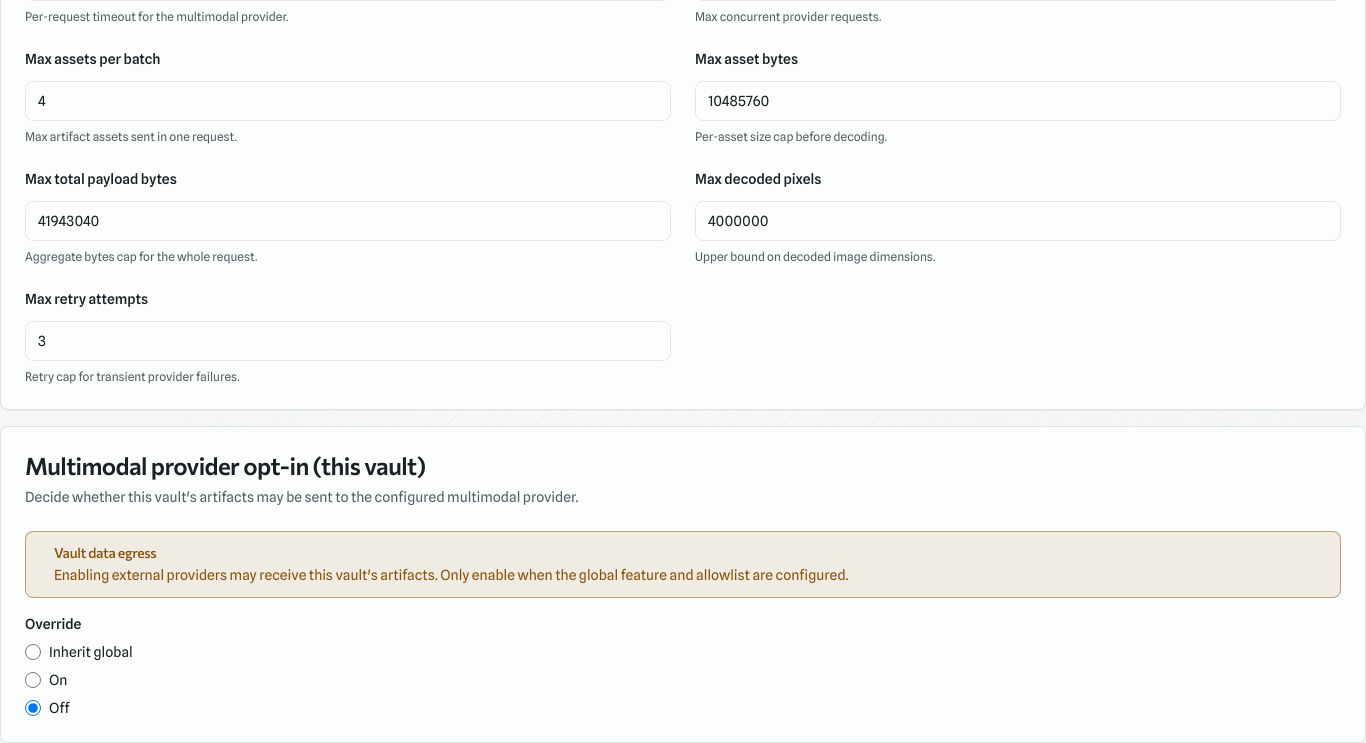
Test: ModelsTab issue #774 read outcomes › keeps a successful B mutation when the obsolete A read settles
(page scrolled)
Expected: the radio button labelled "Off" is checked, 25,700 -> 41,716
What coordinates should you click on to do the following:
click the radio button labelled "On"
I would click on:
 (33, 680)
Its box is 25,672 -> 41,688.
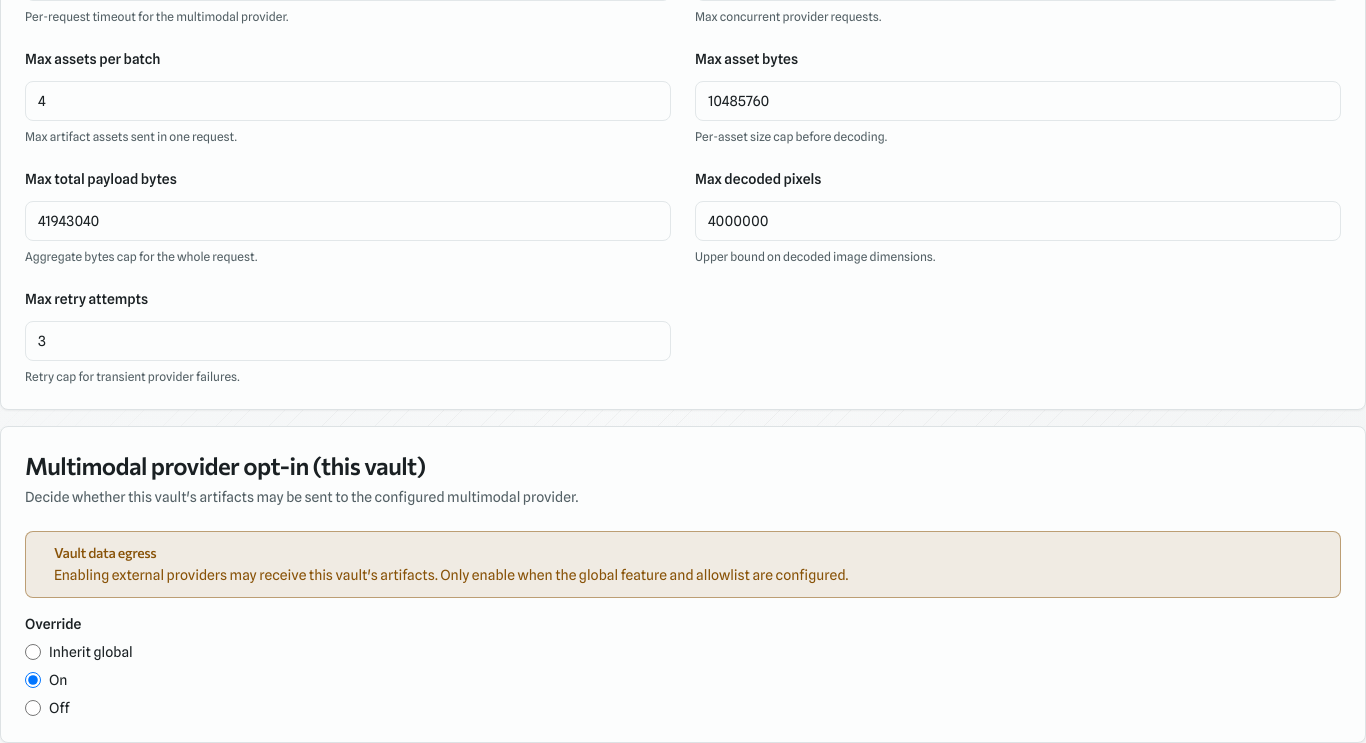
Result: the radio button labelled "On" is checked at 25,672 -> 41,688
Result: the radio button labelled "Off" is not checked at 25,700 -> 41,716
